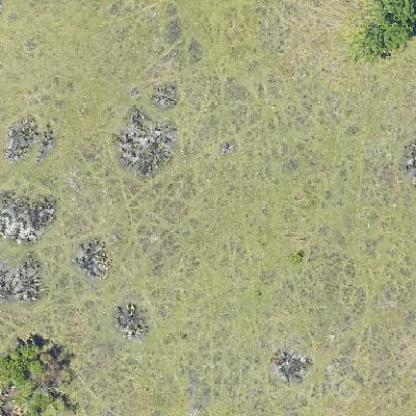tree-top: (2, 341, 75, 411), (343, 0, 415, 63)
